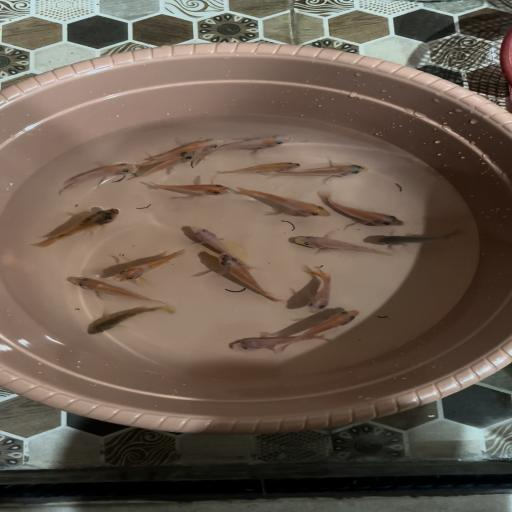nila: (206, 250, 285, 306), (31, 206, 121, 251), (279, 306, 363, 352), (233, 184, 335, 218), (80, 303, 178, 338), (60, 274, 174, 304), (316, 191, 404, 229), (182, 223, 254, 266), (192, 131, 295, 161), (113, 246, 189, 284), (52, 160, 135, 194), (370, 224, 464, 252), (224, 329, 330, 353), (142, 133, 224, 164), (280, 234, 390, 254), (135, 149, 198, 183), (301, 264, 342, 314), (279, 161, 376, 182), (219, 158, 302, 178), (145, 180, 233, 198)
